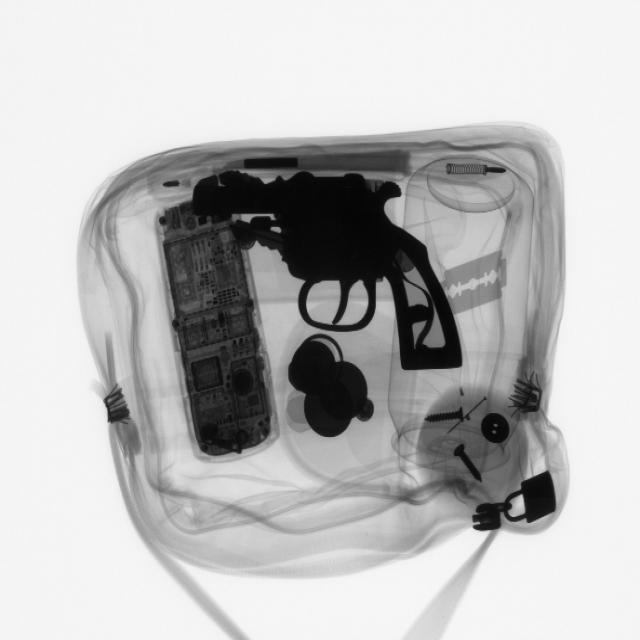BLADE: (444, 249, 515, 318)
GUN: (198, 174, 457, 384)
SCREW: (448, 437, 491, 489), (421, 401, 473, 433)
